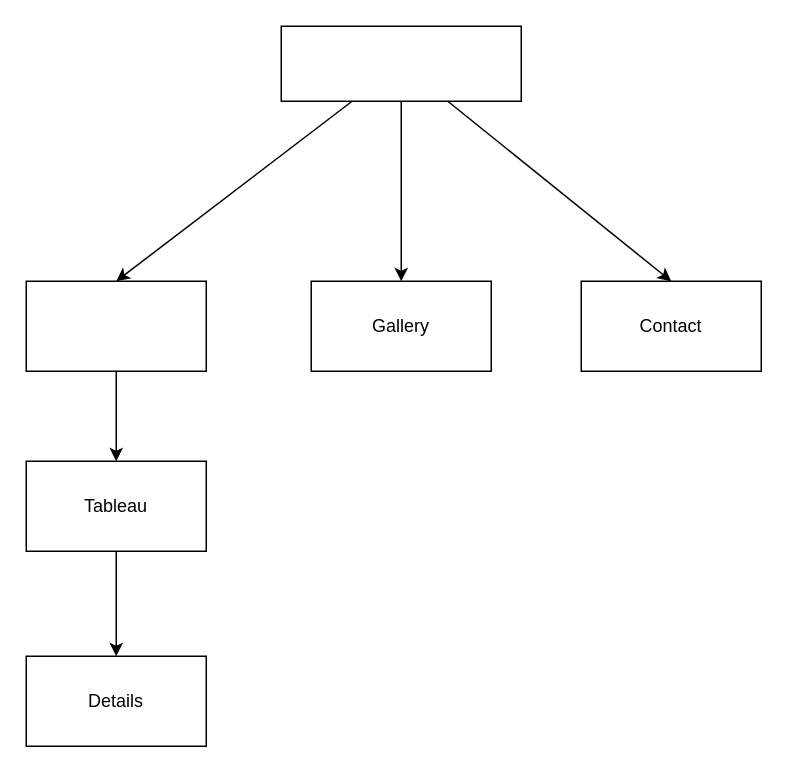
Image size: 788x773. Some labels were removed from this diagram. The centre of each missing label's shape, as x and y in pixels:
"Acceuil" belongs at (x=400, y=63).
"Catalogue" belongs at (x=115, y=325).
